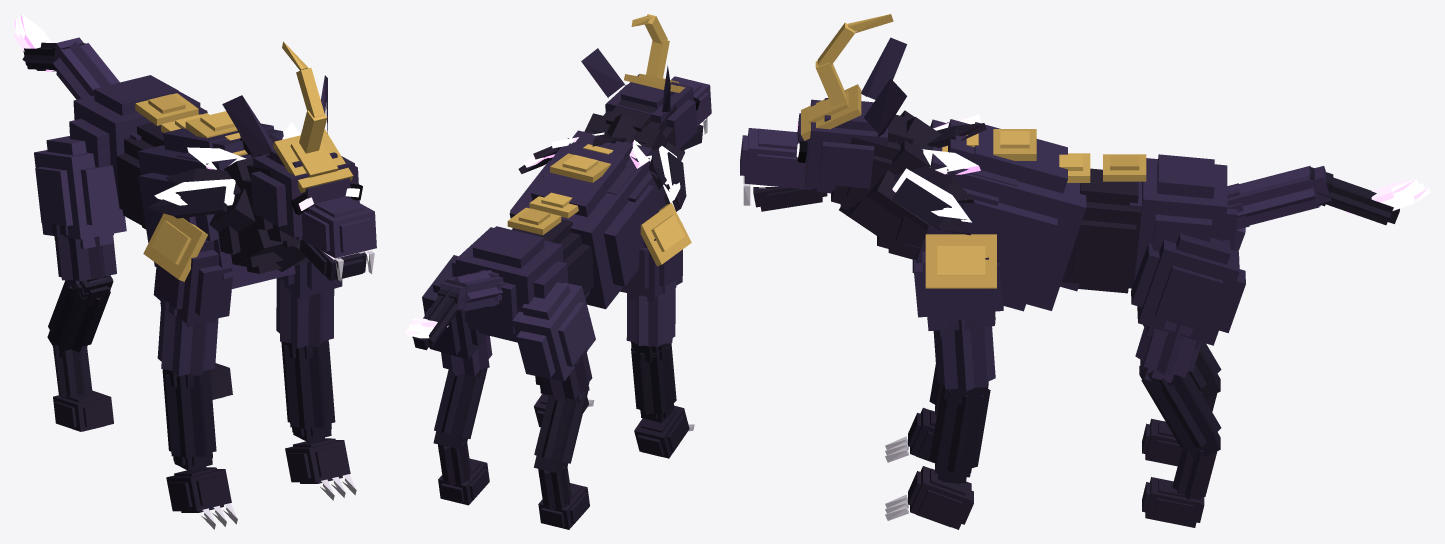
3 views of the same model, side by side, from view 1: azimuth 30°, elevation 25°; view 2: azimuth 150°, elevation 25°; view 3: azimuth 270°, elevation 25° (orthographic). The views are drawn at different scales.
Visible parts, largest first — view 1: EclipseHound; view 2: EclipseHound; view 3: EclipseHound.
Part boxes in pixels (x1,y1,x2,y2): EclipseHound: (14,14,376,529); EclipseHound: (405,14,711,529); EclipseHound: (740,14,1430,529).
Size of the model in its own units: 0.4907 by 1.16 by 1.52.
